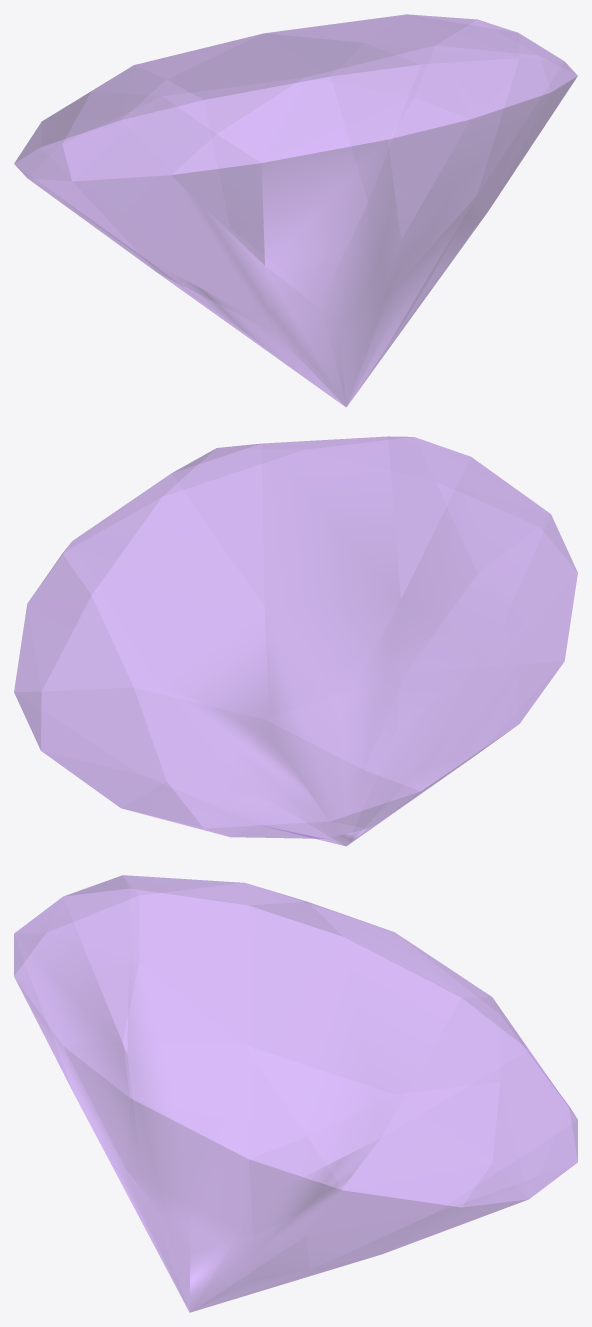
File: purple_diamond_crystal_gem.glb
3 views of the same model, one above another, from view 1: azimuth 30°, elevation 25°; view 2: azimuth 150°, elevation 25°; view 3: azimuth 270°, elevation 25° (orthographic). The views are drawn at different scales.
Visible parts, largest first — view 1: Diamond; view 2: Diamond; view 3: Diamond.
Boxes of the visible parts, x1,y1,x2,y2 form: Diamond: (14, 14, 577, 406); Diamond: (14, 436, 577, 846); Diamond: (14, 875, 577, 1312).
Size of the model in its own units: 47.49 by 33.5 by 44.62.
